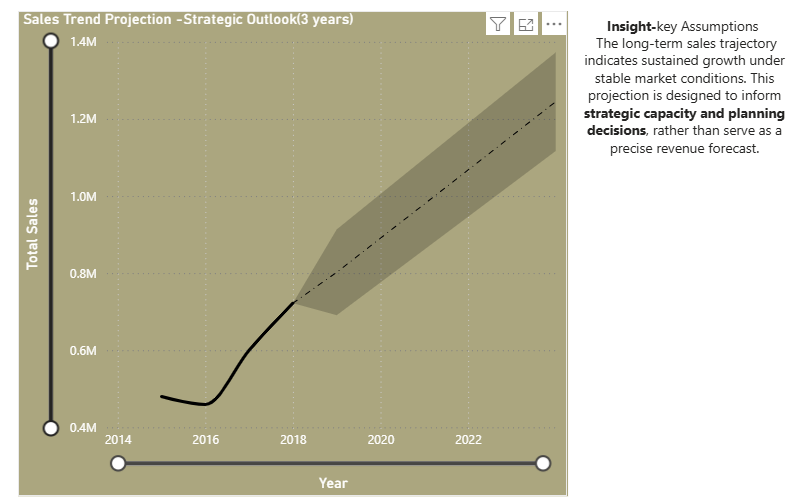

Layout of this report page (visuals, bound fields, positions):
{"tool":"powerbi","page":{"name":"Page 2","canvas":[1280,720],"ordinal":1},"visuals":[{"type":"lineChart","title":"Sales Trend Projection -Strategic Outlook(3 years)","fields":{"Category":["Date.Year"],"Y":["train.Total Sales"]},"box":[298.2,46.6,534.6,471.9],"z":0},{"type":"textbox","box":[843.3,46.7,207.2,180.9],"z":1}]}

Visuals, with their boxes on the page's 1280x720 design canvas (x1, y1, x2, y2). These are canvas units, not pixel positions in the 792x503 screenshot, which may show the page scaled, cropped or inside an application window:
"Sales Trend Projection -Strategic Outlook(3 years)" lineChart: Rect(298, 47, 833, 518)
textbox: Rect(843, 47, 1050, 228)
